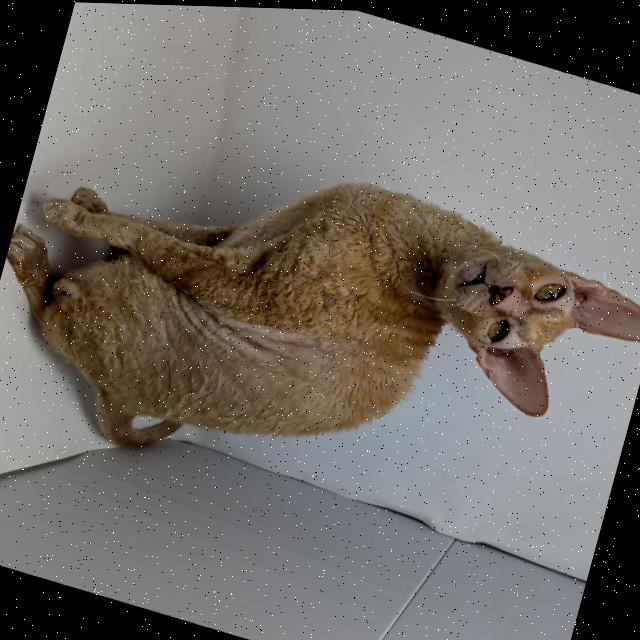Cornish Rex: (0, 83, 640, 586)
